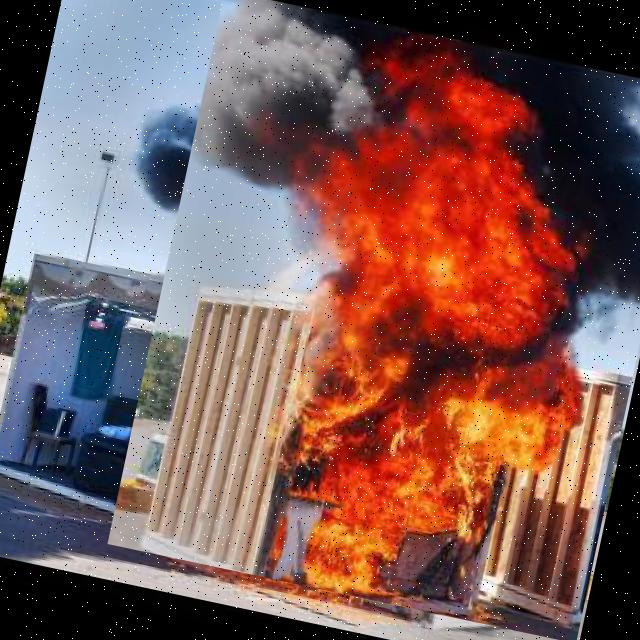fire: (107, 0, 640, 640)
